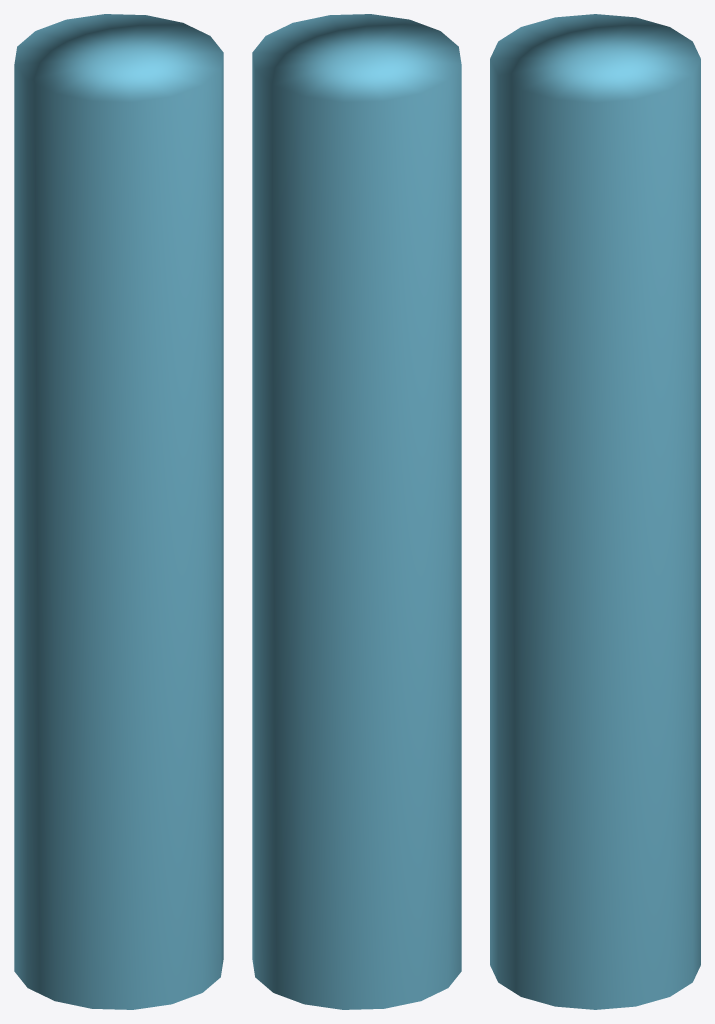
Rendered from kr270_enhanced.glb.
3 views of the same model, side by side, from view 1: azimuth 30°, elevation 25°; view 2: azimuth 150°, elevation 25°; view 3: azimuth 270°, elevation 25° (orthographic).
Visible parts, largest first — view 1: KR270_Robot; view 2: KR270_Robot; view 3: KR270_Robot.
Boxes of the visible parts, x1,y1,x2,y2 form: KR270_Robot: (14, 14, 223, 1009); KR270_Robot: (252, 14, 461, 1009); KR270_Robot: (490, 14, 700, 1009).
Size of the model in its own units: 0.4 by 1.9 by 0.4.
